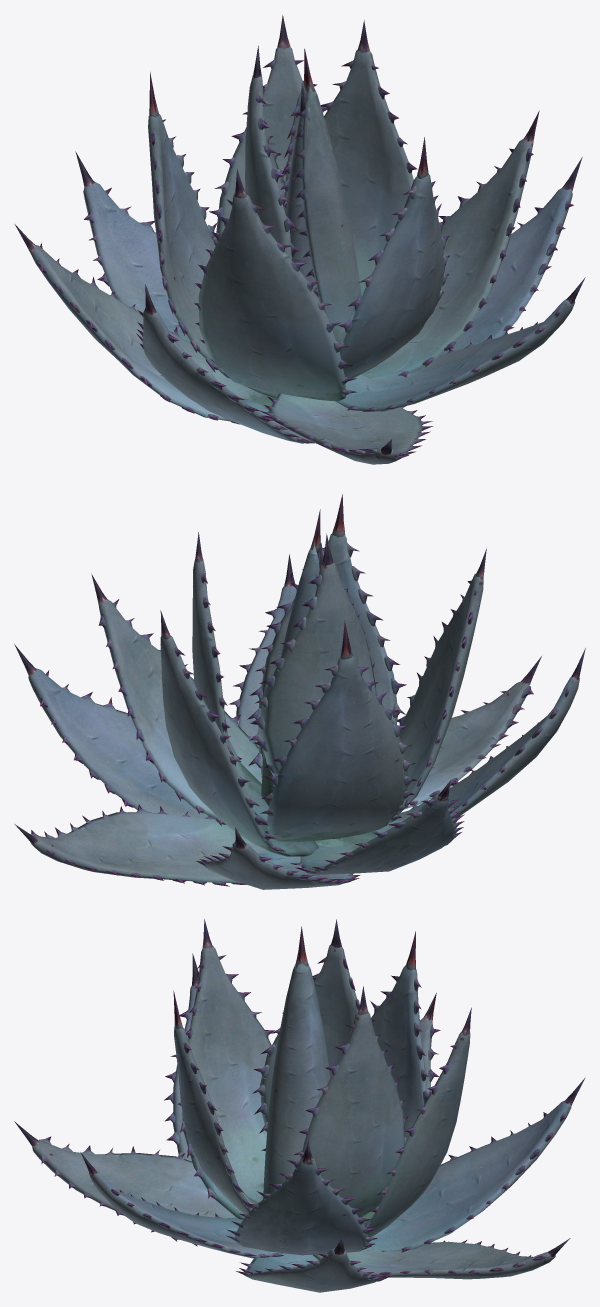
File: preview.glb
The picture shows the model from 3 angles, top to bottom: view 1: azimuth 30°, elevation 25°; view 2: azimuth 150°, elevation 25°; view 3: azimuth 270°, elevation 25°; orthographic projection. The views are drawn at different scales.
Visible parts, largest first — view 1: Succulent_Agave_parryi_A_Leaf_glb; view 2: Succulent_Agave_parryi_A_Leaf_glb; view 3: Succulent_Agave_parryi_A_Leaf_glb.
Boxes of the visible parts, box(x1,y1,x2,y2) form: Succulent_Agave_parryi_A_Leaf_glb: box(14, 15, 585, 464); Succulent_Agave_parryi_A_Leaf_glb: box(14, 494, 585, 889); Succulent_Agave_parryi_A_Leaf_glb: box(14, 919, 585, 1292).
Bounding box in the file's own units: 0.4983 × 0.3438 × 0.531.
1 material, 1 textured.
